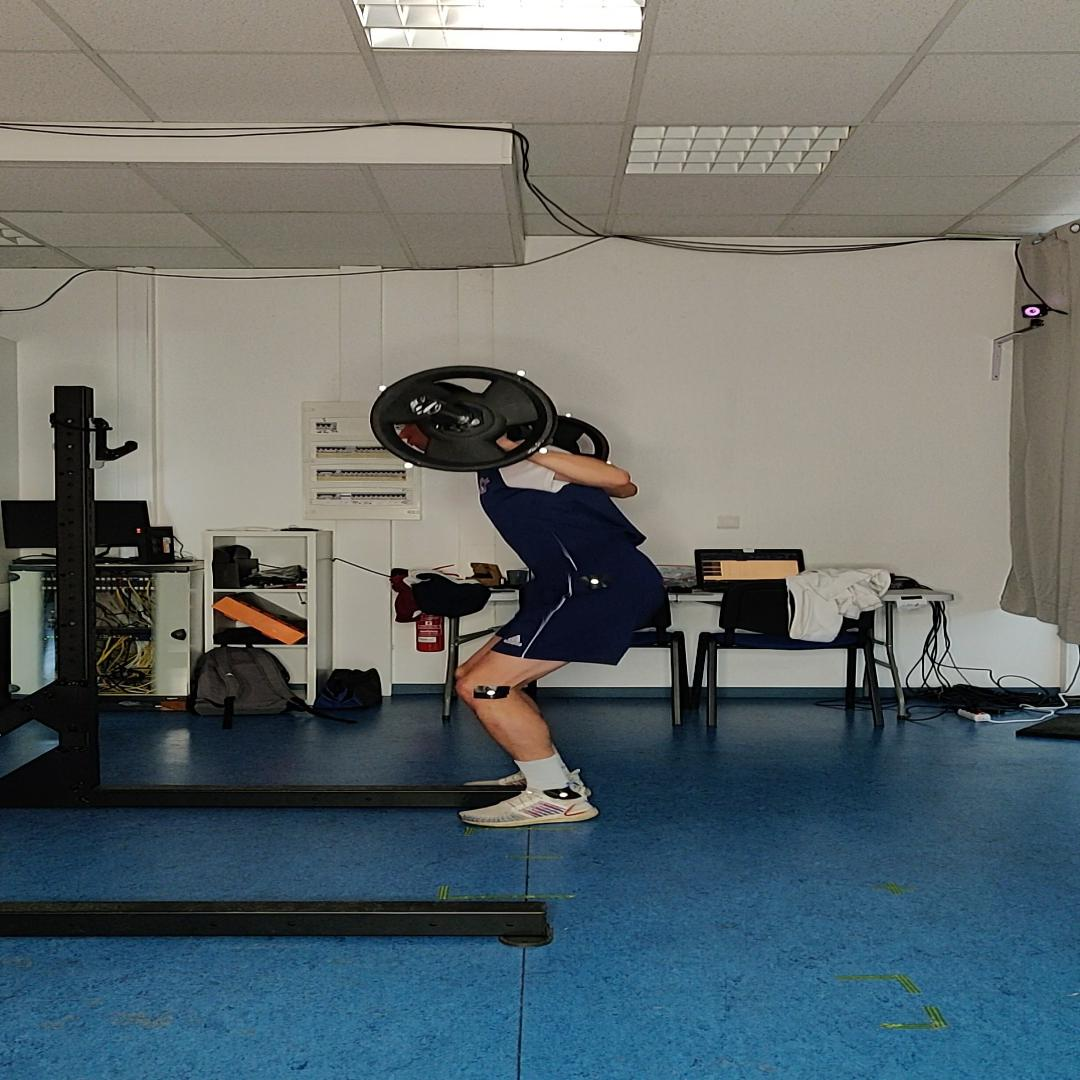Bar: (409, 395, 443, 416)
Barbell: (370, 365, 558, 472)
